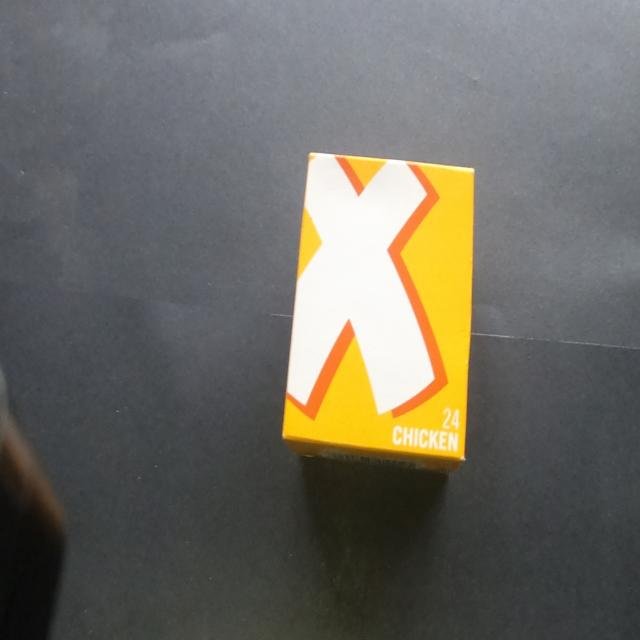Chickenstock: (260, 134, 498, 506)
